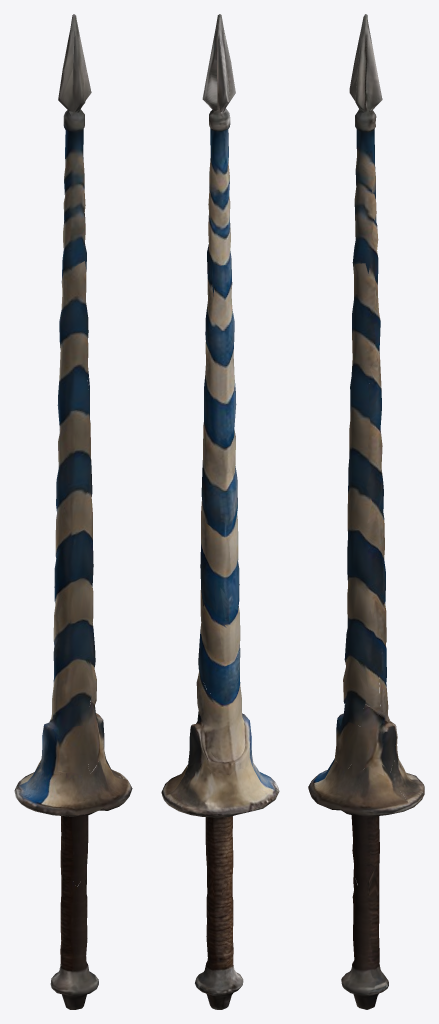
The model's file is blue_tourney_lance.glb.
3 renders of one model, left to right at view 1: azimuth 30°, elevation 25°; view 2: azimuth 210°, elevation 25°; view 3: azimuth 330°, elevation 25°, orthographic.
Visible parts, largest first — view 1: blue_tourney_lance; view 2: blue_tourney_lance; view 3: blue_tourney_lance.
Part boxes in pixels (bbox=[...]): blue_tourney_lance: bbox=[14, 14, 132, 1009]; blue_tourney_lance: bbox=[161, 14, 279, 1009]; blue_tourney_lance: bbox=[308, 14, 424, 1009].
Bounding box in the file's own units: 0.3219 × 3 × 0.3129.
1 material, 1 textured.
